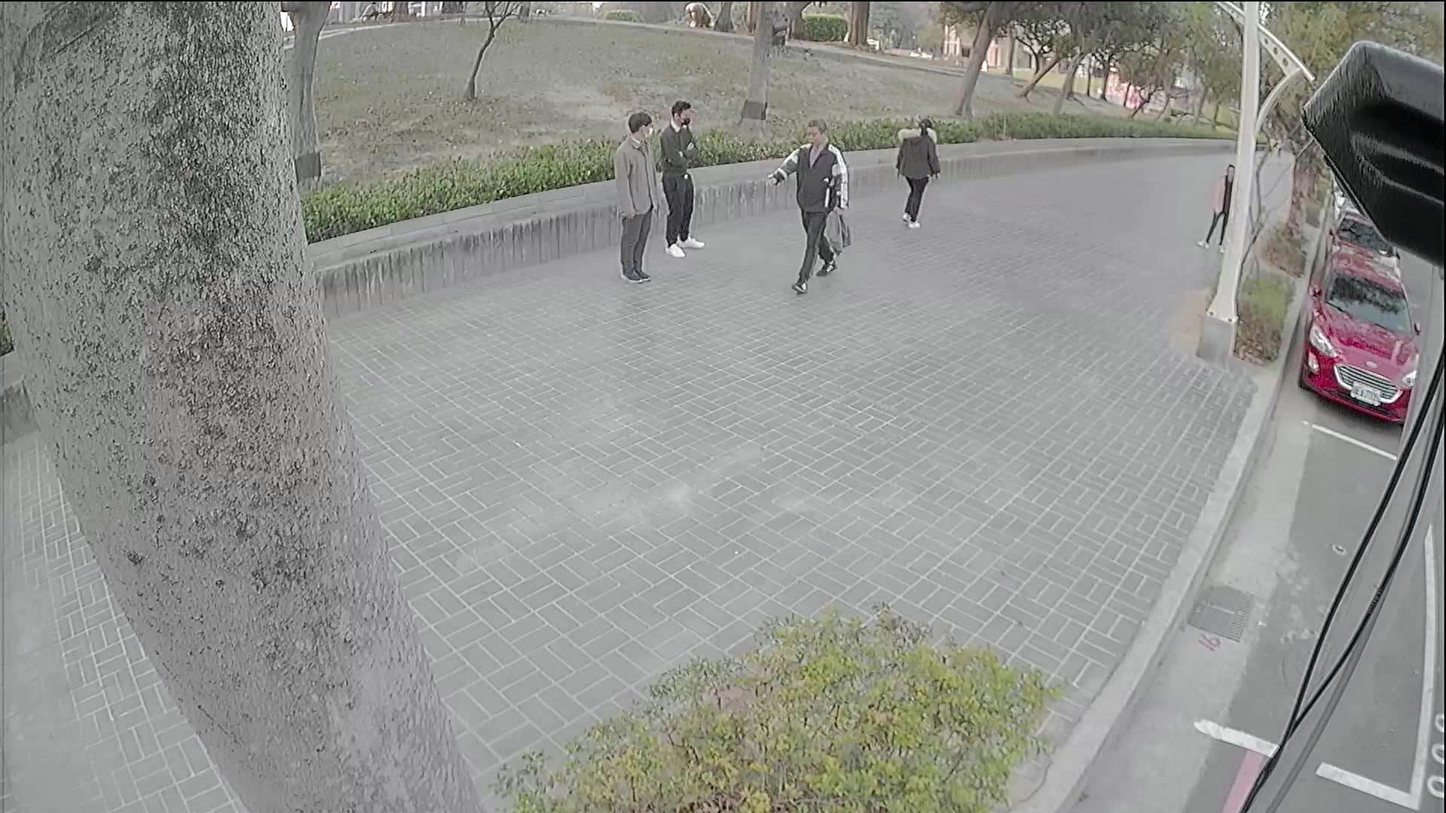person: (767, 120, 847, 292), (616, 115, 657, 282), (664, 102, 704, 251), (895, 114, 937, 227), (1203, 165, 1233, 248)
